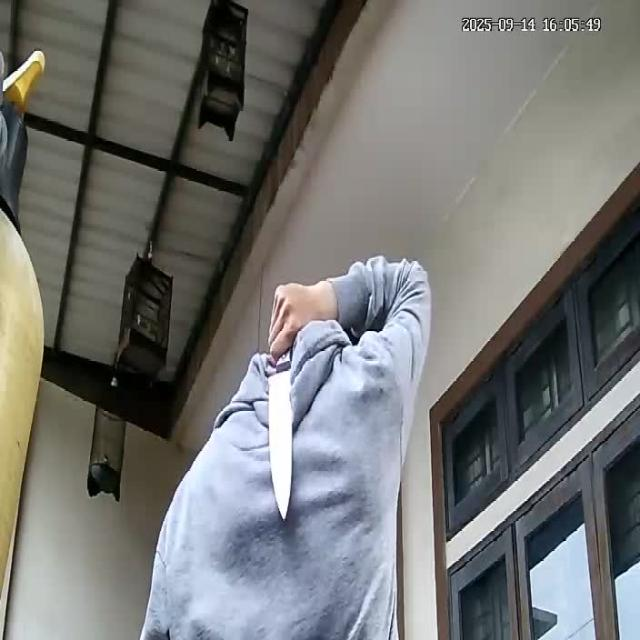senjata_tajam: (266, 357, 297, 521)
